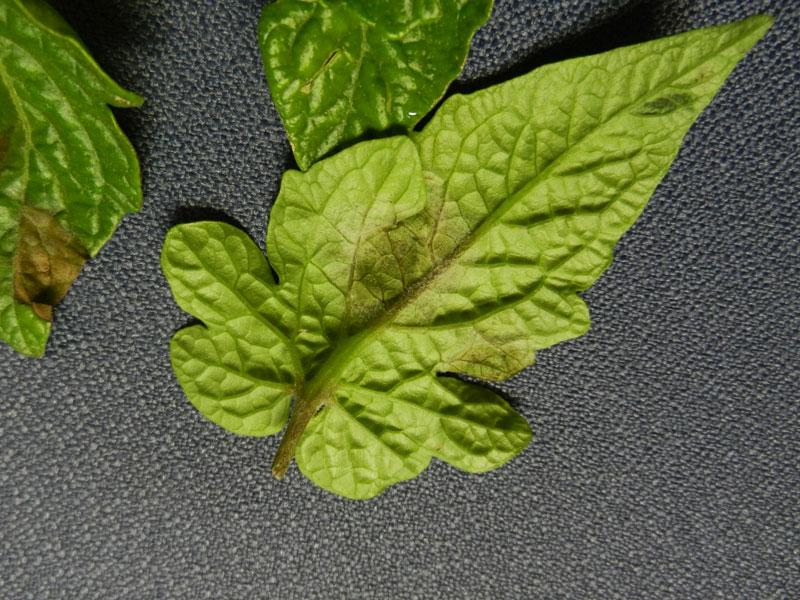Tomato leaf late blight: (159, 22, 769, 517)
